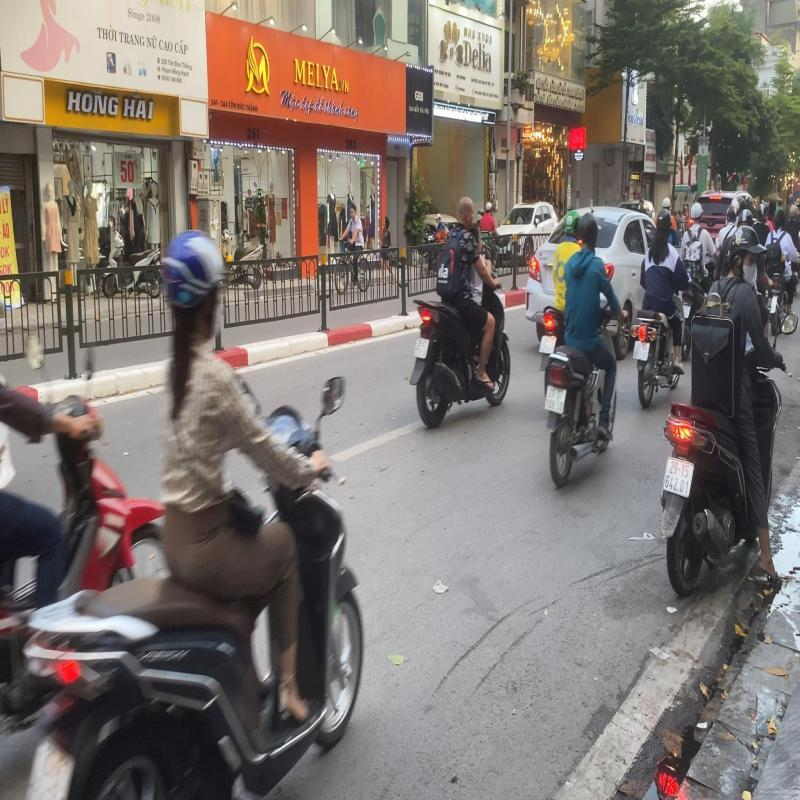nohelmet: (456, 192, 477, 233)
